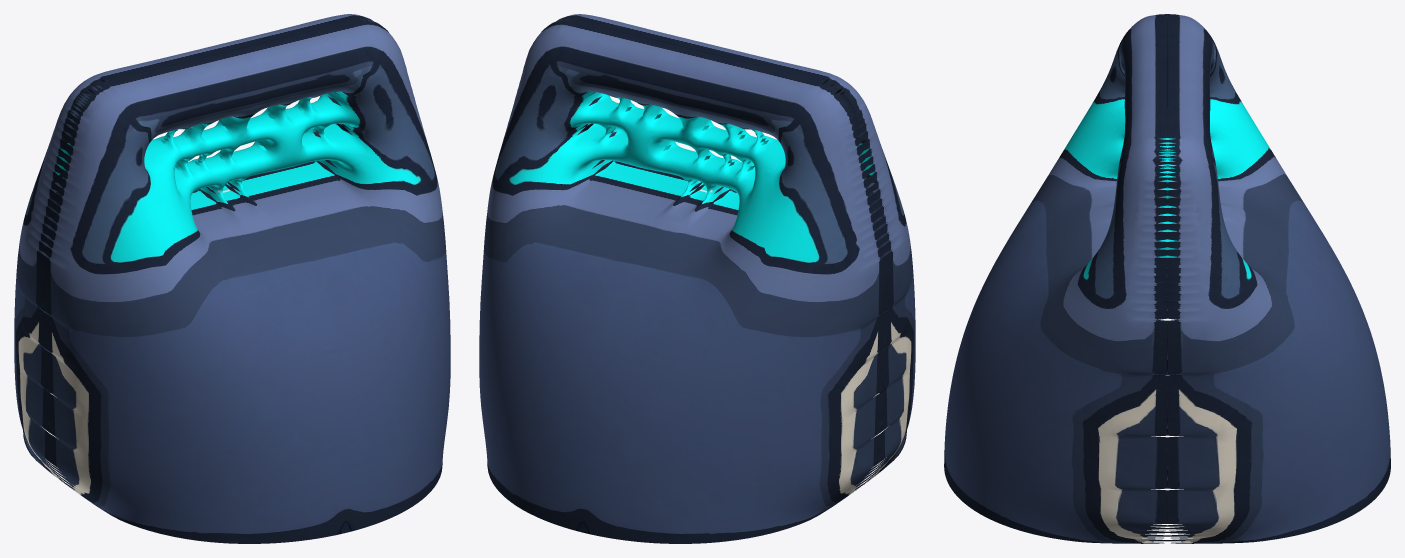
File: chamber_terminal.glb
3 views of the same model, side by side, from view 1: azimuth 30°, elevation 25°; view 2: azimuth 150°, elevation 25°; view 3: azimuth 270°, elevation 25° (orthographic). The views are drawn at different scales.
Visible parts, largest first — view 1: chamber_terminal; view 2: chamber_terminal; view 3: chamber_terminal.
Part boxes in pixels (<box>): chamber_terminal: <box>14,14,450,543</box>; chamber_terminal: <box>479,14,915,543</box>; chamber_terminal: <box>944,14,1390,543</box>.
Size of the model in its own units: 0.9889 by 0.9989 by 1.04.
Materials: 1 (1 with a texture image).
